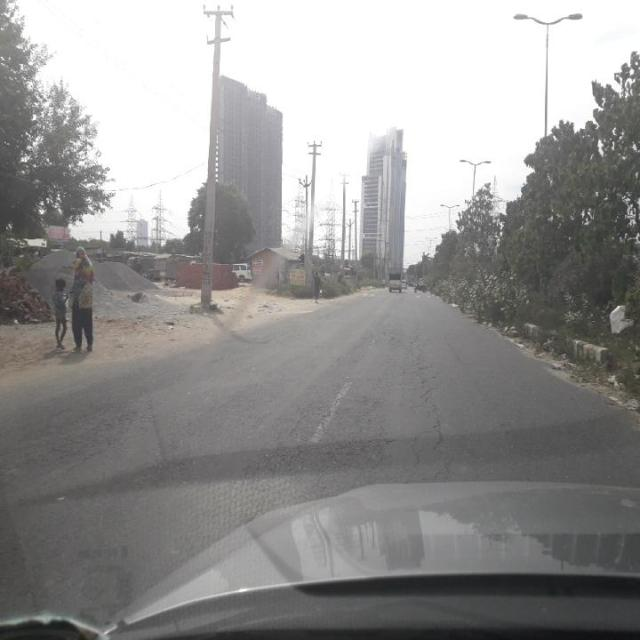D20: (232, 310, 476, 498), (0, 385, 143, 547)
D44: (306, 372, 354, 458)
